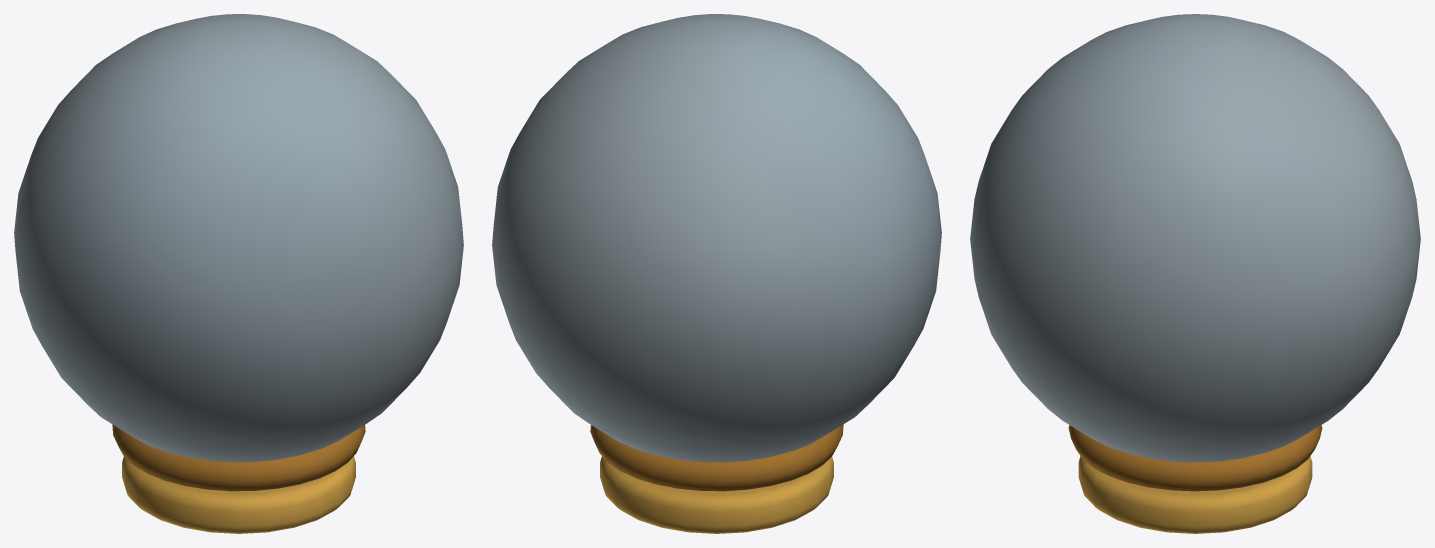
File: col_clover_sphere.glb
The picture shows the model from 3 angles, left to right: view 1: azimuth 30°, elevation 25°; view 2: azimuth 150°, elevation 25°; view 3: azimuth 270°, elevation 25°; orthographic projection.
Parts seen in each view (by area): view 1: col_clover_sphere; view 2: col_clover_sphere; view 3: col_clover_sphere.
Boxes of the visible parts, bbox=[...] form: col_clover_sphere: bbox=[14, 14, 463, 533]; col_clover_sphere: bbox=[492, 14, 941, 533]; col_clover_sphere: bbox=[970, 14, 1420, 533].
Bounding box in the file's own units: 0.612 × 0.68 × 0.612.
